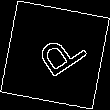P_SW: (23, 25, 87, 85)
